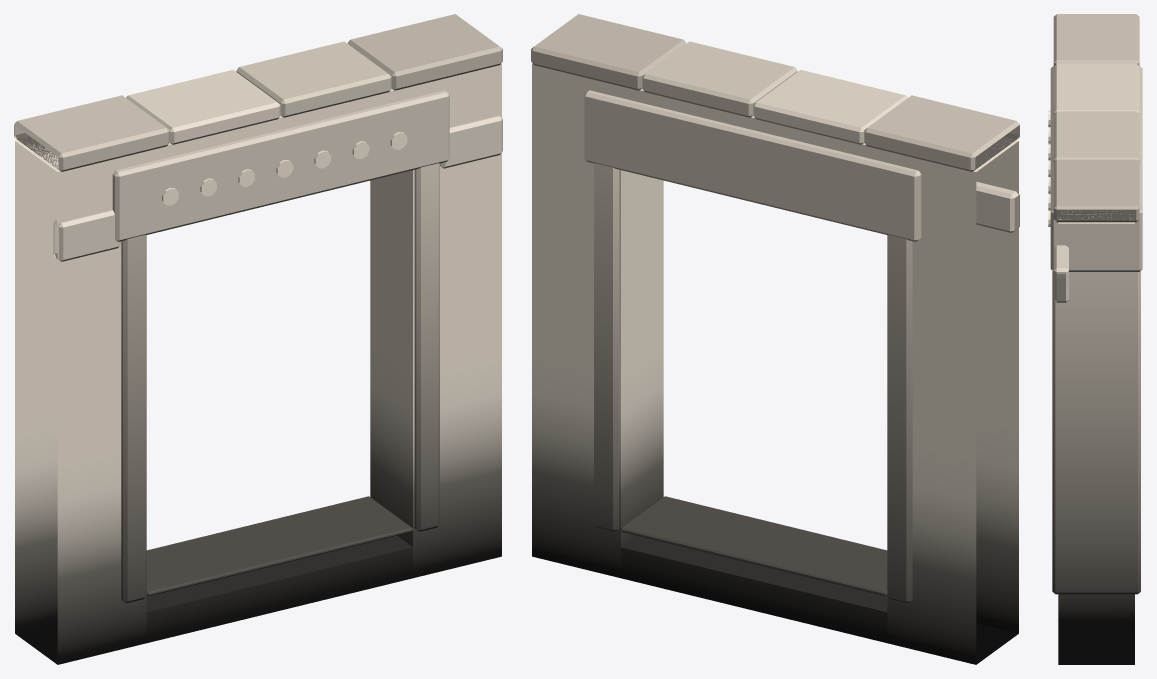
Rendered from SM_VKI_Wall_Ancient_DoorWide_300_Full.fbx.
3 renders of one model, left to right at view 1: azimuth 30°, elevation 25°; view 2: azimuth 150°, elevation 25°; view 3: azimuth 270°, elevation 25°, orthographic. The views are drawn at different scales.
Parts seen in each view (by area): view 1: SM_VKI_Wall_Ancient_DoorWide_300_Full.001; view 2: SM_VKI_Wall_Ancient_DoorWide_300_Full.001; view 3: SM_VKI_Wall_Ancient_DoorWide_300_Full.001.
Part boxes in pixels (x1,y1,x2,y2): SM_VKI_Wall_Ancient_DoorWide_300_Full.001: (14, 14, 502, 664); SM_VKI_Wall_Ancient_DoorWide_300_Full.001: (531, 14, 1019, 664); SM_VKI_Wall_Ancient_DoorWide_300_Full.001: (1048, 14, 1142, 664).
Size of the model in its own units: 3 by 3.3 by 0.615.
